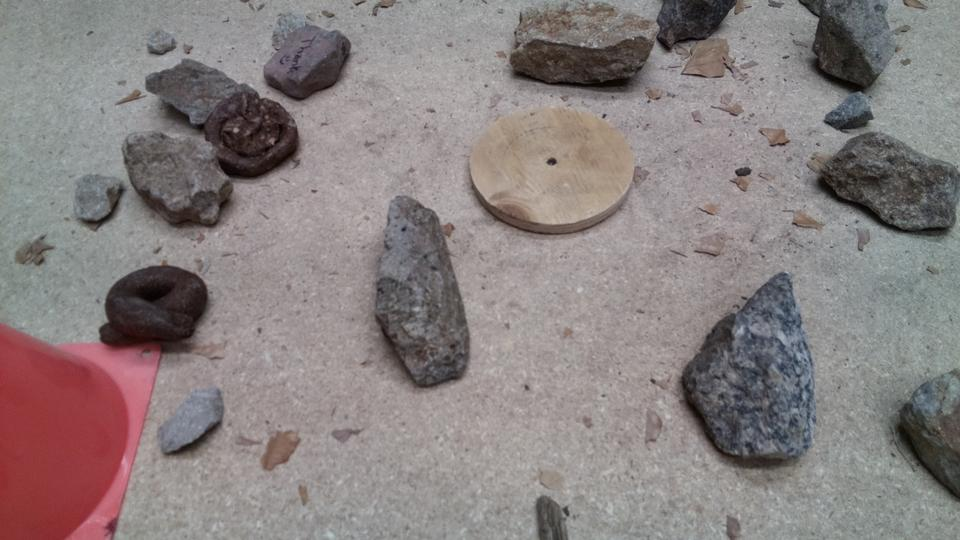poop: (98, 265, 210, 351), (204, 88, 302, 182)
